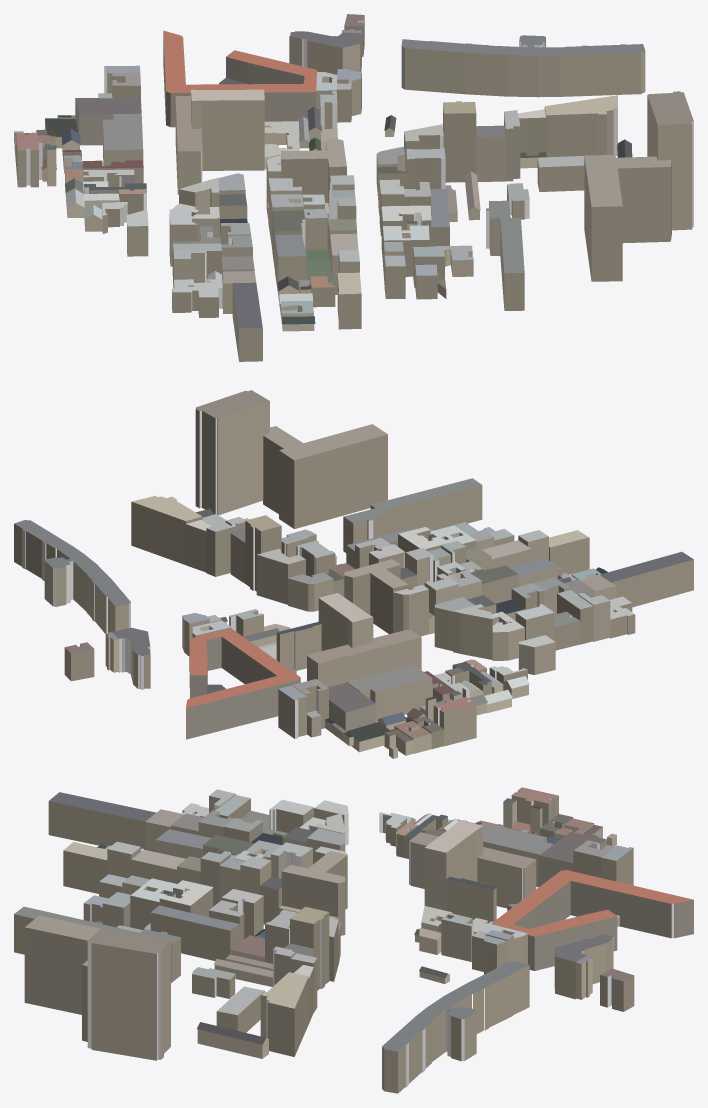
The picture shows the model from 3 angles, top to bottom: view 1: azimuth 30°, elevation 25°; view 2: azimuth 150°, elevation 25°; view 3: azimuth 270°, elevation 25°; orthographic projection. The views are drawn at different scales.
Parts seen in each view (by area): view 1: tuile; view 2: tuile; view 3: tuile.
Boxes of the visible parts, x1,y1,x2,y2 form: tuile: (14,14,693,361); tuile: (14,390,693,758); tuile: (14,787,693,1093).
Bounding box in the file's own units: 312 × 59.24 × 317.
